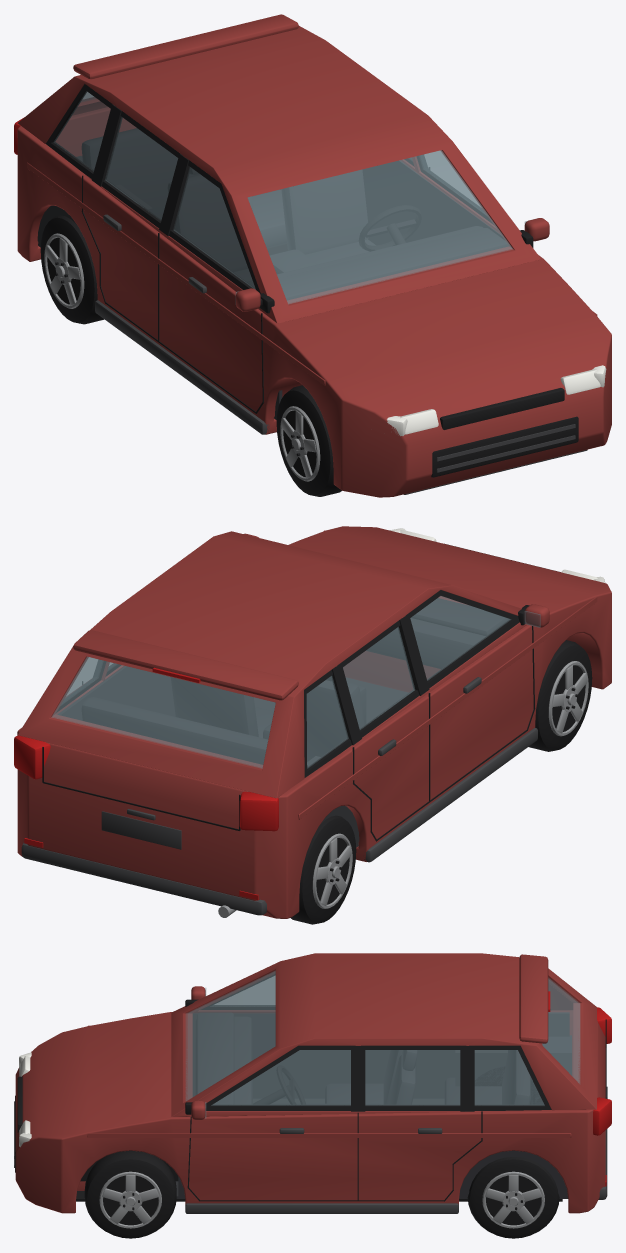
The model's file is Hatchback.fbx.
3 renders of one model, top to bottom at view 1: azimuth 30°, elevation 25°; view 2: azimuth 150°, elevation 25°; view 3: azimuth 270°, elevation 25°, orthographic. The views are drawn at different scales.
Parts seen in each view (by area): view 1: Hatchback_Mesh; view 2: Hatchback_Mesh; view 3: Hatchback_Mesh.
Boxes of the visible parts, left/top/right/bottom form: Hatchback_Mesh: left=14, top=14, right=611, bottom=497; Hatchback_Mesh: left=14, top=526, right=611, bottom=924; Hatchback_Mesh: left=14, top=953, right=611, bottom=1238.
Bounding box in the file's own units: 2.01 × 1.49 × 4.15.
